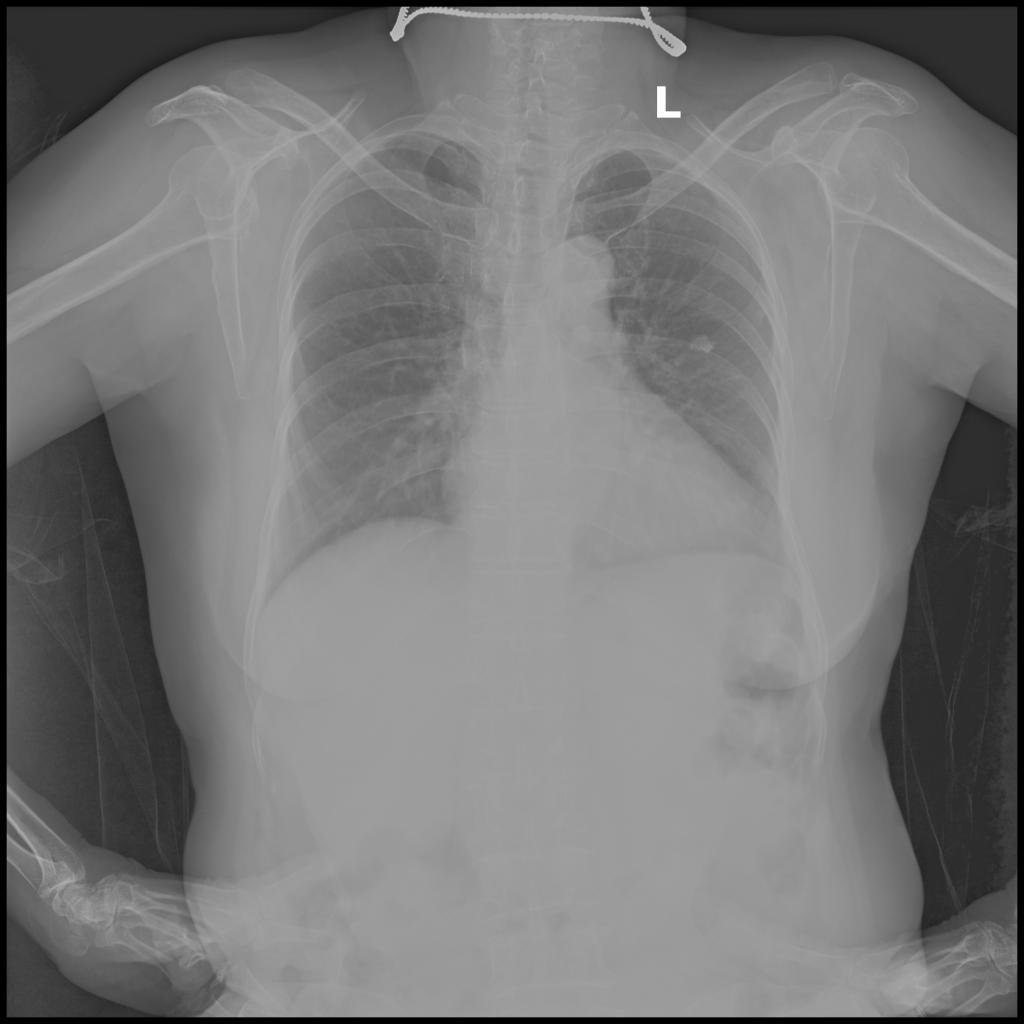Nodule: (688, 335, 714, 354)
